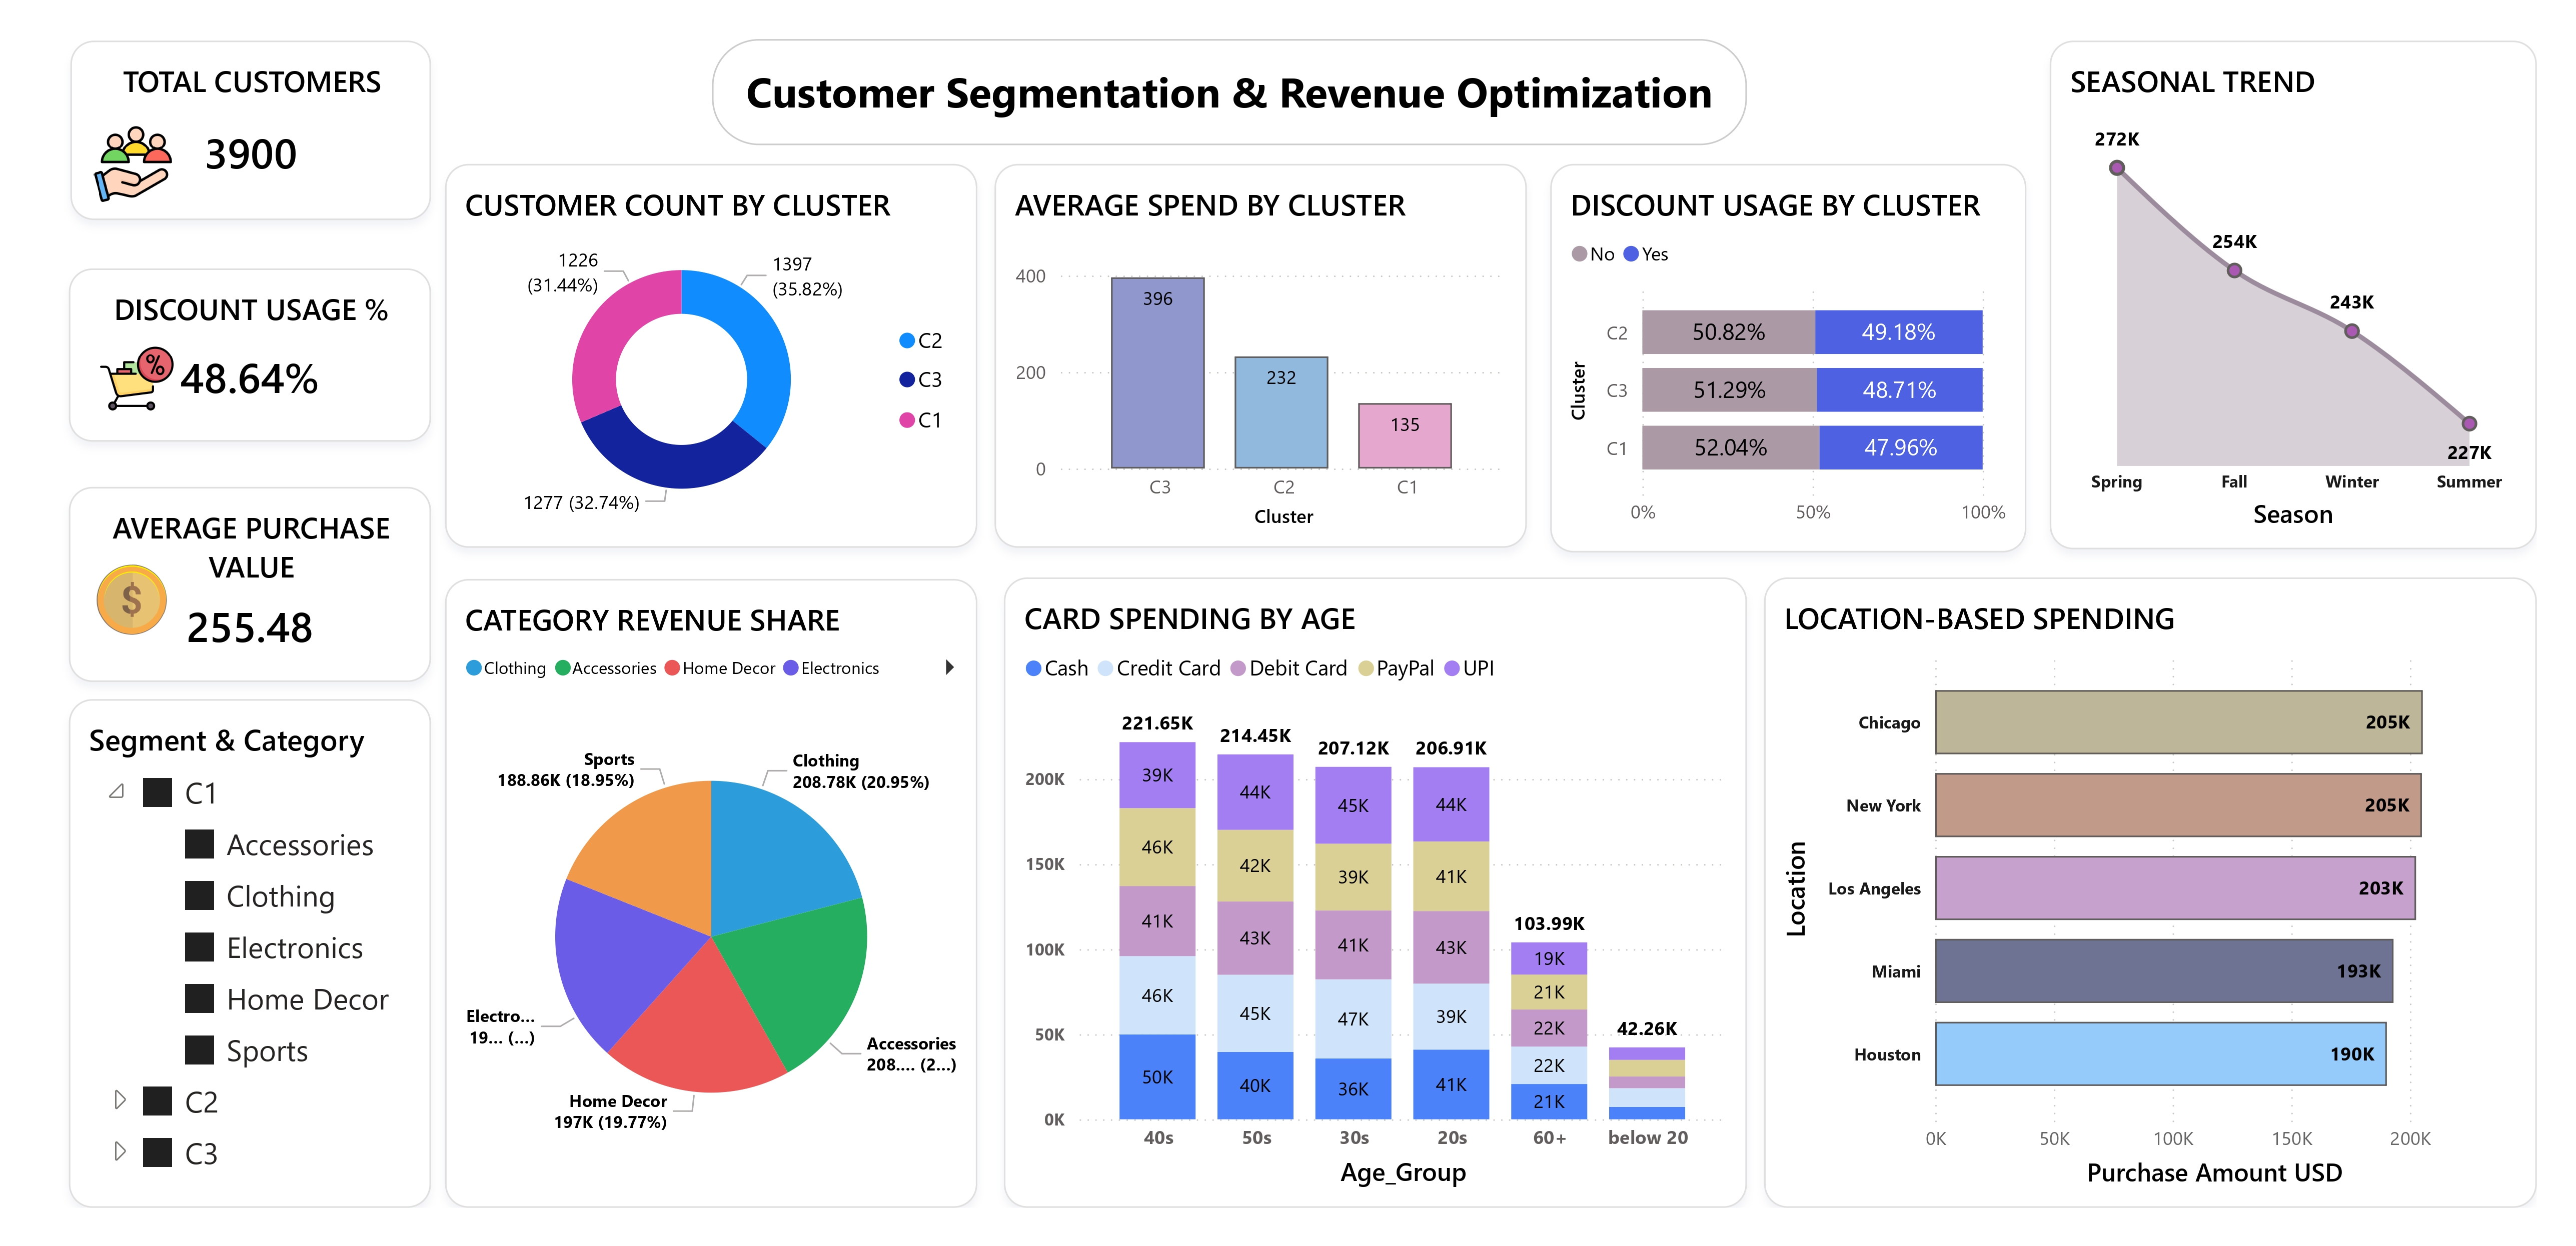

Layout of this report page (visuals, bound fields, positions):
{"tool":"powerbi","page":{"name":"Page 3","canvas":[1600,750],"ordinal":0},"visuals":[{"type":"card","title":"TOTAL CUSTOMERS","fields":{"Values":["CountNonNull(CS_Data.CustomerID)"]},"box":[19.9,2.5,231.4,114.4],"z":0},{"type":"card","title":"AVERAGE PURCHASE VALUE","fields":{"Values":["Avg(CS_Data.PurchaseAmountUSD)"]},"box":[19.4,287.7,231.9,125.7],"z":1000},{"type":"card","title":"DISCOUNT USAGE %","fields":{"Values":["CS_Data.Discount Usage %"]},"box":[19.4,147.7,231.9,111.4],"z":2000},{"type":"columnChart","title":"CARD SPENDING BY AGE","fields":{"Category":["CS_Data.Age_Group"],"Y":["Sum(CS_Data.PurchaseAmountUSD)"],"Series":["CS_Data.PaymentMethod"]},"box":[618.1,346,475.6,404.3],"z":3000},{"type":"donutChart","title":"CUSTOMER COUNT BY CLUSTER","fields":{"Category":["CS_Data.Cluster"],"Y":["CountNonNull(CS_Data.CustomerID)"]},"box":[260,80.9,340.8,246.3],"z":4000},{"type":"columnChart","title":"AVERAGE SPEND BY CLUSTER","fields":{"Category":["CS_Data.Cluster"],"Y":["Avg(CS_Data.PurchaseAmountUSD)"]},"box":[612,80.9,340.8,246.3],"z":5000},{"type":"hundredPercentStackedBarChart","title":"DISCOUNT USAGE BY CLUSTER","fields":{"Category":["CS_Data.Cluster"],"Series":["CS_Data.DiscountApplied"],"Y":["CountNonNull(CS_Data.CustomerID)"]},"box":[968.3,81.1,304.2,248.4],"z":6000},{"type":"pieChart","title":"CATEGORY REVENUE SHARE","fields":{"Category":["CS_Data.Category"],"Y":["Sum(CS_Data.PurchaseAmountUSD)"]},"box":[260.5,347.3,340.8,403],"z":7000},{"type":"lineChart","title":"SEASONAL TREND","fields":{"Category":["CS_Data.Season"],"Y":["Sum(CS_Data.PurchaseAmountUSD)"]},"box":[1287.7,1.7,312.6,326.2],"z":8000},{"type":"slicer","title":"Segment & Category","fields":{"Values":["CS_Data.Cluster","CS_Data.Category"]},"box":[19.4,423.7,231.9,326.5],"z":9000},{"type":"textbox","box":[431.5,1.3,662.1,67.4],"z":10000},{"type":"image","box":[29.9,49.8,59.7,61],"z":11000},{"type":"image","box":[31.1,330.4,57,60.9],"z":12000},{"type":"image","box":[32.4,190.5,59.6,57],"z":13000},{"type":"clusteredBarChart","title":"LOCATION-BASED SPENDING","fields":{"Category":["CS_Data.Location"],"Y":["Sum(CS_Data.PurchaseAmountUSD)"]},"box":[1105.3,346,495,404.3],"z":14000}]}

Visuals, with their boxes on the page's 1600x750 design canvas (x1, y1, x2, y2). These are canvas units, not pixel positions in the 2576x1246 screenshot, which may show the page scaled, cropped or inside an application window:
"TOTAL CUSTOMERS" card: 20,2,251,117
"AVERAGE PURCHASE VALUE" card: 19,288,251,413
"DISCOUNT USAGE %" card: 19,148,251,259
"CARD SPENDING BY AGE" columnChart: 618,346,1094,750
"CUSTOMER COUNT BY CLUSTER" donutChart: 260,81,601,327
"AVERAGE SPEND BY CLUSTER" columnChart: 612,81,953,327
"DISCOUNT USAGE BY CLUSTER" hundredPercentStackedBarChart: 968,81,1272,330
"CATEGORY REVENUE SHARE" pieChart: 260,347,601,750
"SEASONAL TREND" lineChart: 1288,2,1600,328
"Segment & Category" slicer: 19,424,251,750
textbox: 432,1,1094,69
image: 30,50,90,111
image: 31,330,88,391
image: 32,190,92,248
"LOCATION-BASED SPENDING" clusteredBarChart: 1105,346,1600,750
